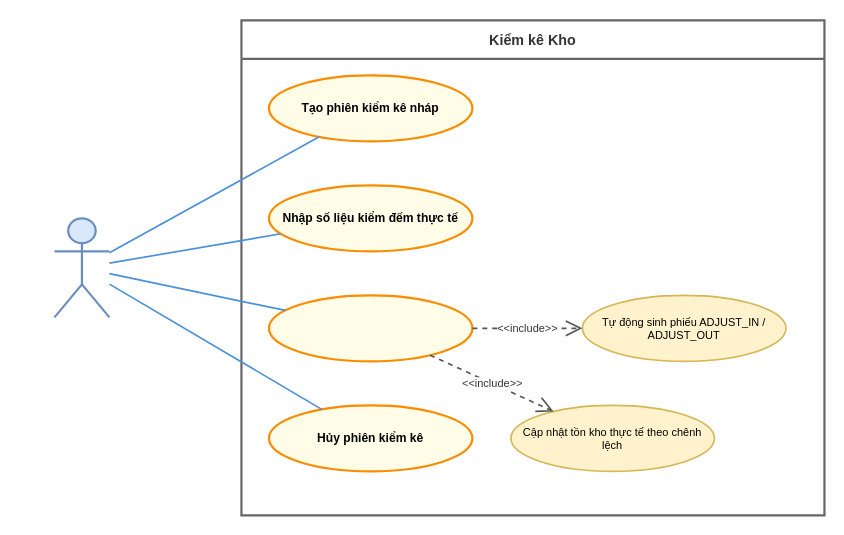
This 844x535 diagram has some shape labels left out. The shapes that lost their labels are listed below. From the top down, each one's centre as x and y in pixels, then its label:
point 81,267: Quản trị viên (ADMIN)
point 370,328: Hoàn tất kiểm kê (DRAFT → COMPLETED)
